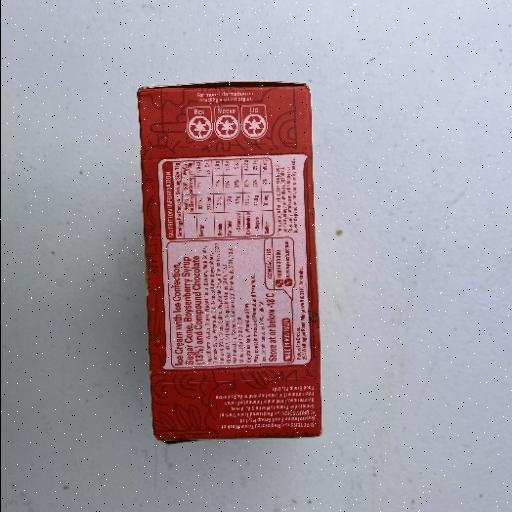Cardboard: (136, 80, 322, 444)
